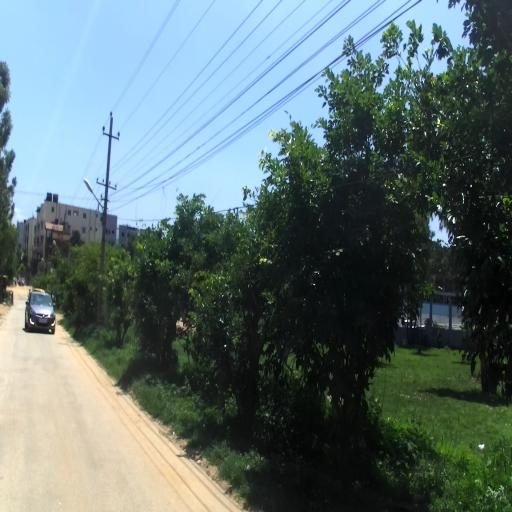street_light_0: (84, 178, 106, 226)
